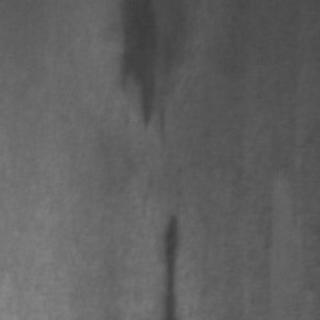inclusion: (106, 0, 166, 136), (154, 207, 186, 317)
